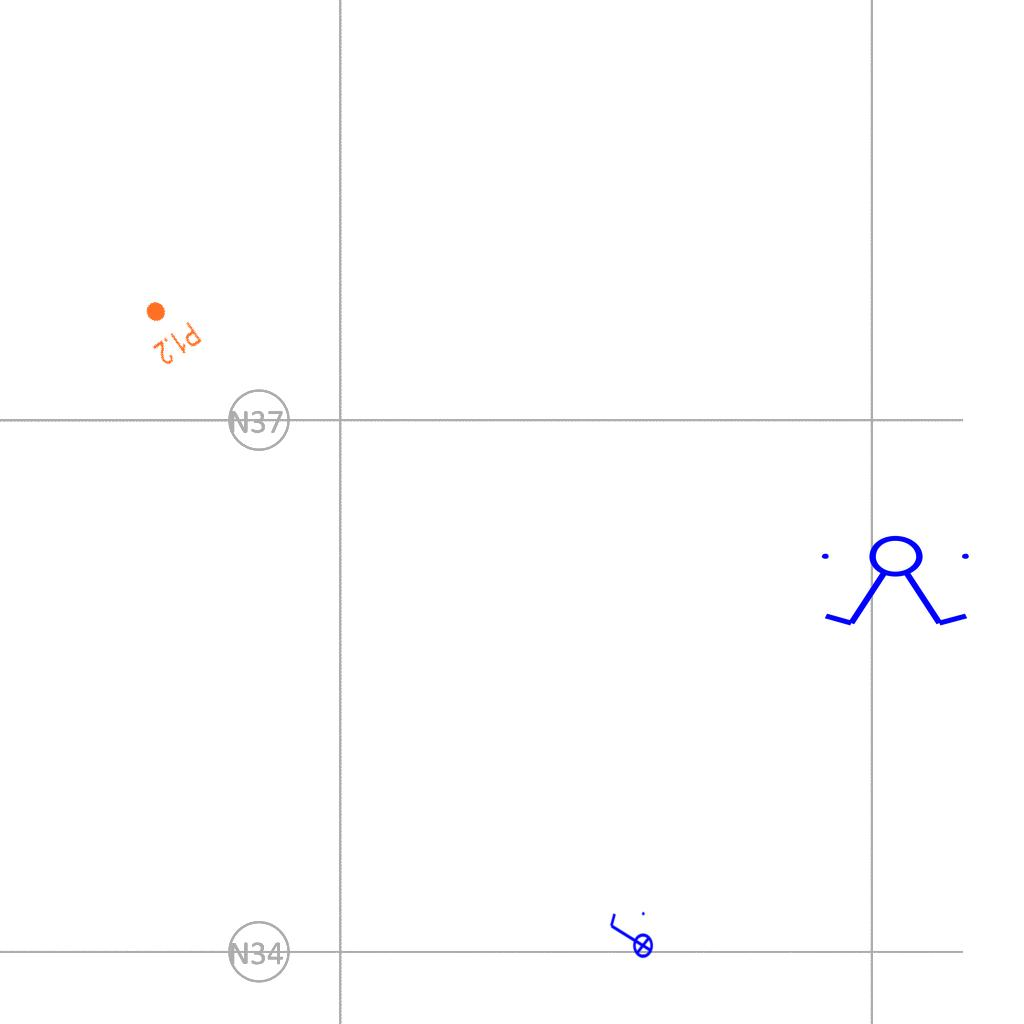Ausschalter_beleuchtet: (606, 909, 654, 965)
Downlight_LED_Einbauleuchten_Flur: (129, 289, 205, 369)
Serienschalter: (813, 534, 981, 630)
